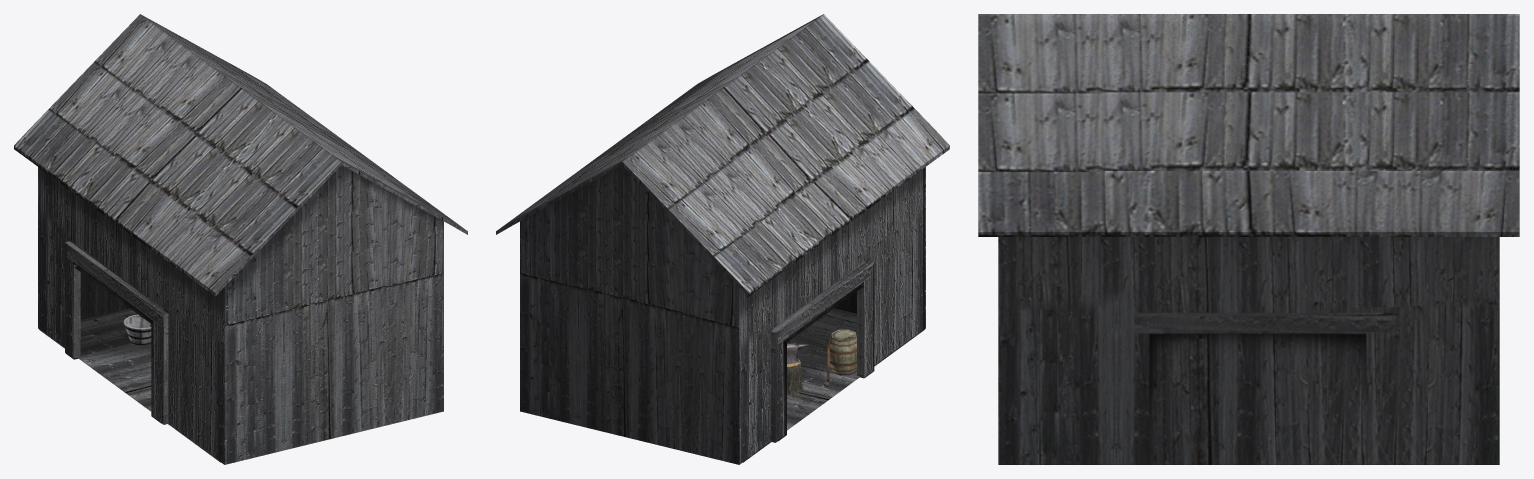
Rendered from BarnOnly.FBX.
The picture shows the model from 3 angles, left to right: view 1: azimuth 30°, elevation 25°; view 2: azimuth 150°, elevation 25°; view 3: azimuth 270°, elevation 25°; orthographic projection. The views are drawn at different scales.
Parts seen in each view (by area): view 1: BlacksmithShopExterior, BlacksmithShopInterior, WellBucket002; view 2: BlacksmithShopExterior, BlacksmithShopInterior, Barrel, TreeStump; view 3: BlacksmithShopExterior.
Part boxes in pixels (x1,y1,x2,y2): BlacksmithShopExterior: (14,14,467,464); BlacksmithShopInterior: (39,168,221,462); WellBucket002: (123,314,151,345); BlacksmithShopExterior: (496,14,949,464); BlacksmithShopInterior: (742,168,924,462); Barrel: (829,329,856,375); TreeStump: (787,358,803,395); BlacksmithShopExterior: (978,14,1519,464).
Size of the model in its own units: 174 by 187 by 240.
